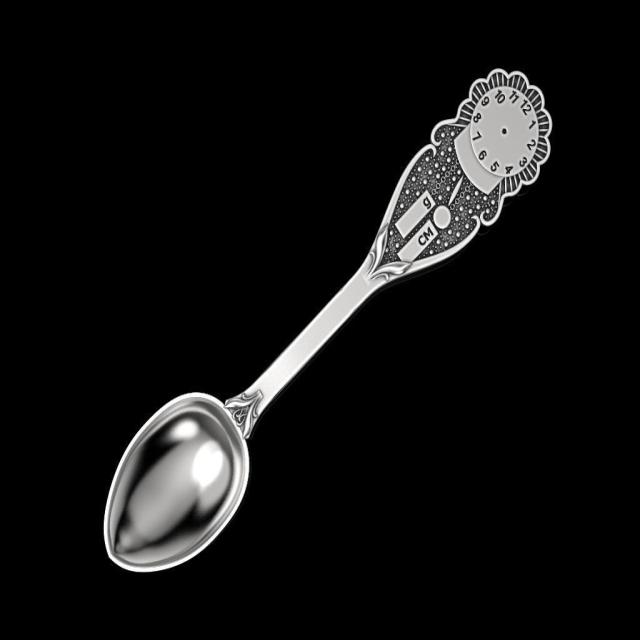spoon: (99, 63, 555, 572)
